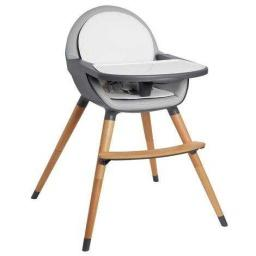Chair: (31, 5, 228, 251)
